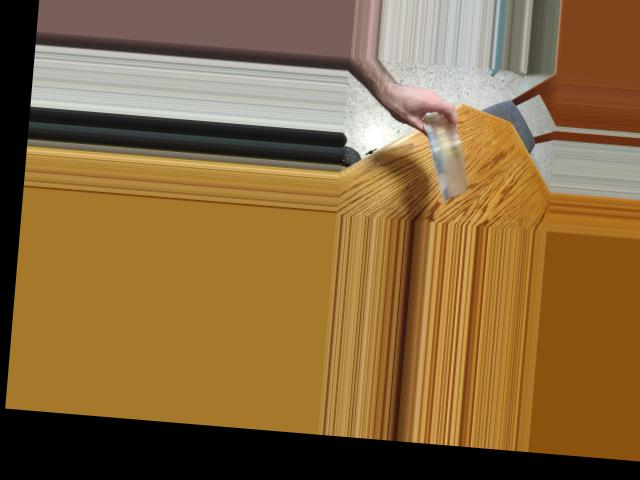cheese: (425, 103, 468, 203)
